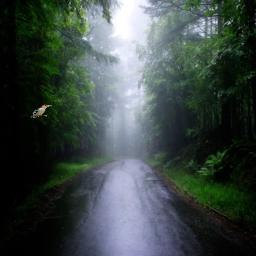Woodpecker: (30, 104, 53, 118)
